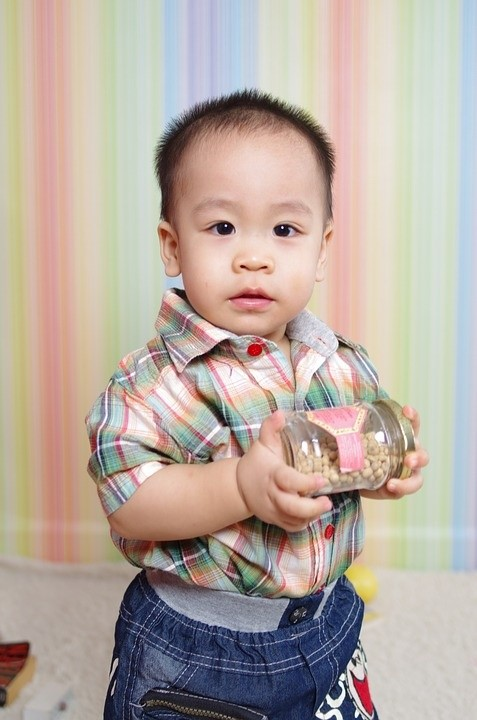face_no_mask: (156, 95, 334, 345)
